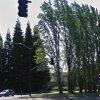Tree: (11, 21, 52, 87)
